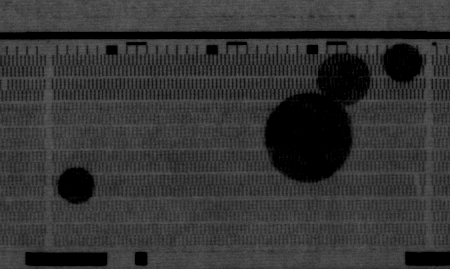Broken hole: (412, 174, 425, 198), (2, 79, 11, 92)
